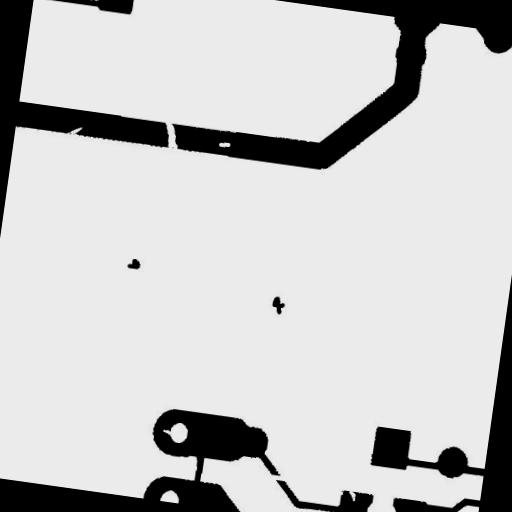copper: (263, 288, 294, 322), (119, 249, 149, 278)
mousebite: (58, 116, 90, 145), (338, 480, 364, 510), (153, 420, 179, 444)
open: (153, 112, 189, 158), (261, 464, 294, 490)
pin-hole: (210, 133, 238, 156)
short: (184, 443, 214, 494)
